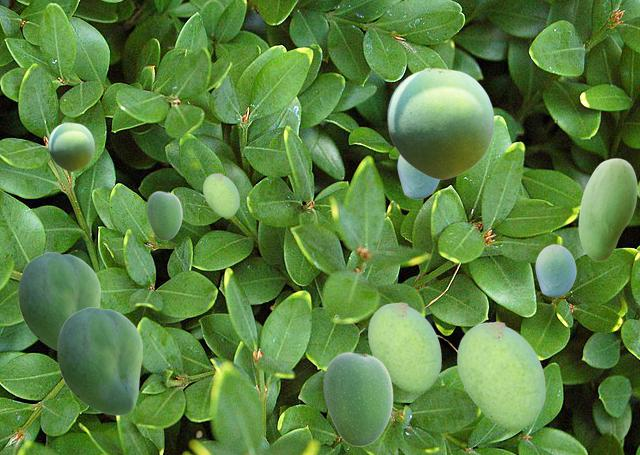green_mango: (387, 67, 493, 178), (457, 321, 544, 428), (57, 307, 141, 414), (18, 252, 99, 351), (323, 352, 392, 445), (368, 302, 440, 391), (578, 158, 636, 260), (48, 122, 93, 170), (535, 244, 575, 296), (397, 155, 440, 198), (146, 191, 181, 239), (203, 173, 238, 216)
